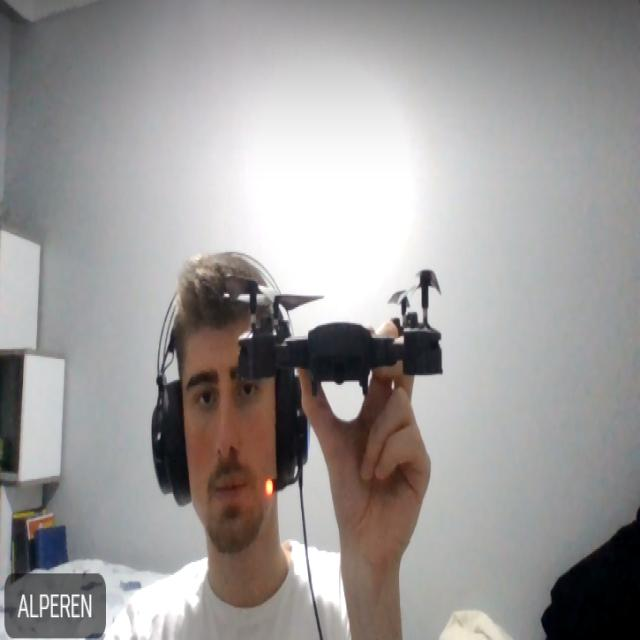drones: (226, 250, 449, 434)
